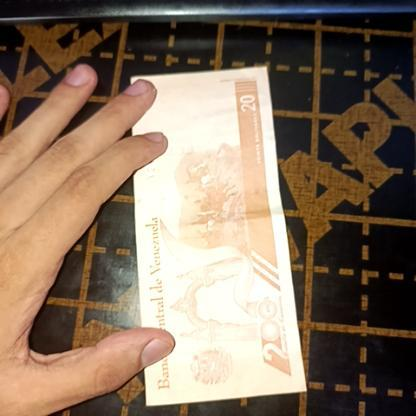vef_back: (131, 65, 306, 408)
